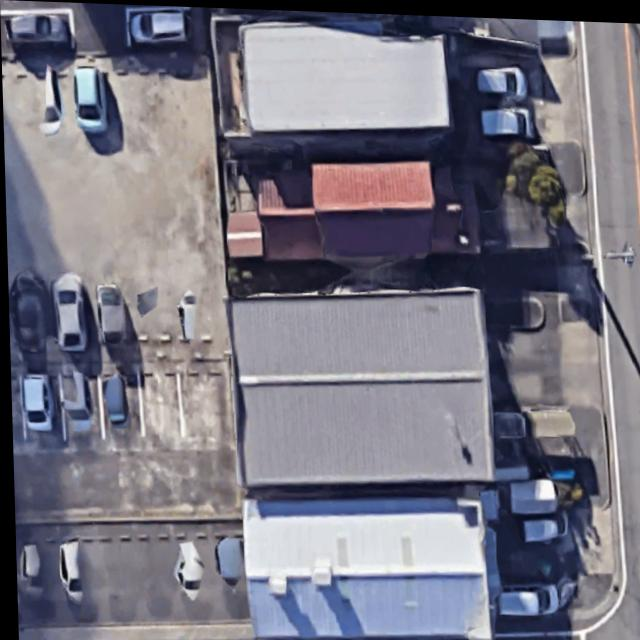Batiment: (229, 288, 491, 483), (240, 493, 488, 637), (225, 158, 475, 258), (240, 22, 449, 129)
